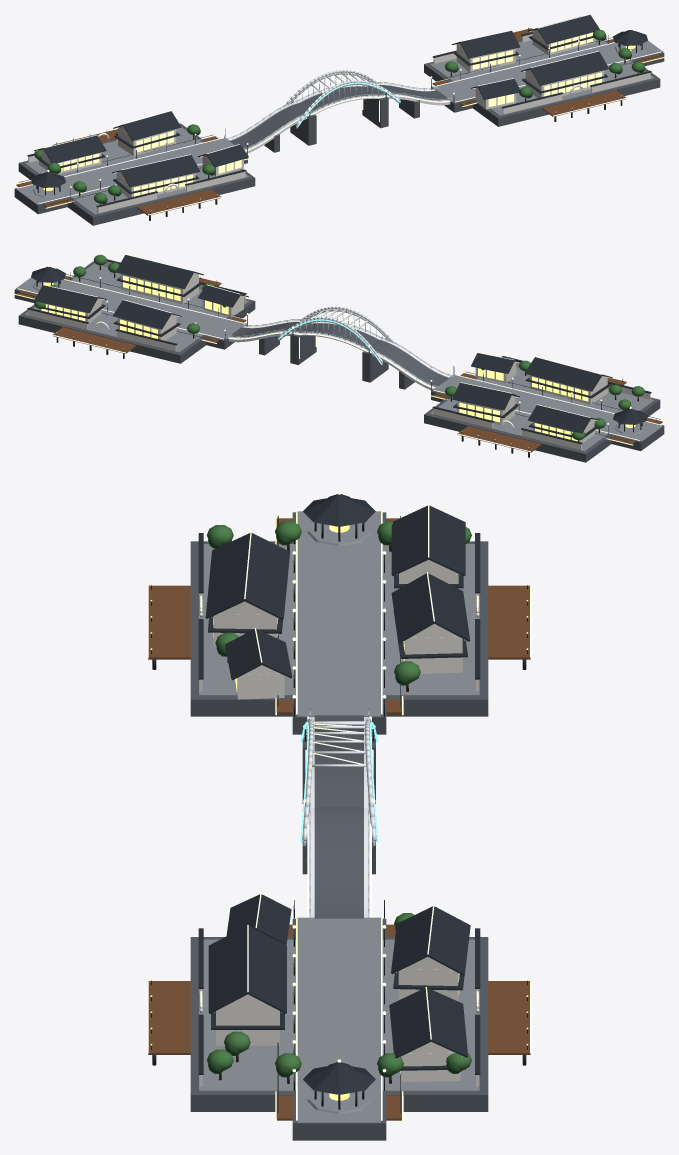
File: ligongdi.glb
3 renders of one model, top to bottom at view 1: azimuth 30°, elevation 25°; view 2: azimuth 150°, elevation 25°; view 3: azimuth 270°, elevation 25°, orthographic. The views are drawn at different scales.
Visible parts, largest first — view 1: LigongdiCauseway; view 2: LigongdiCauseway; view 3: LigongdiCauseway.
Part boxes in pixels (x1=…): LigongdiCauseway: x1=14, y1=14, x2=664, y2=225; LigongdiCauseway: x1=14, y1=254, x2=664, y2=462; LigongdiCauseway: x1=147, y1=491, x2=531, y2=1140.
Bounding box in the file's own units: 340 × 27.41 × 90.43.
